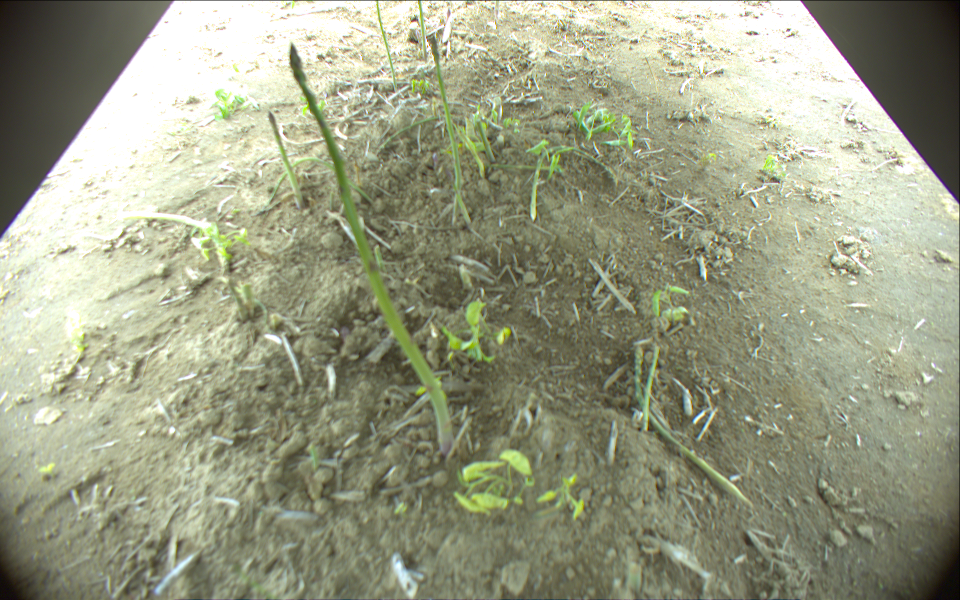aspa: (286, 43, 457, 454), (634, 342, 753, 506), (426, 33, 475, 222), (529, 142, 623, 221), (115, 209, 229, 271), (267, 156, 375, 203), (269, 116, 305, 206), (371, 113, 439, 159), (372, 1, 399, 91), (642, 345, 661, 433), (457, 127, 486, 177), (477, 115, 497, 163), (227, 278, 247, 319), (416, 1, 429, 63), (492, 163, 562, 172), (244, 282, 252, 318)
